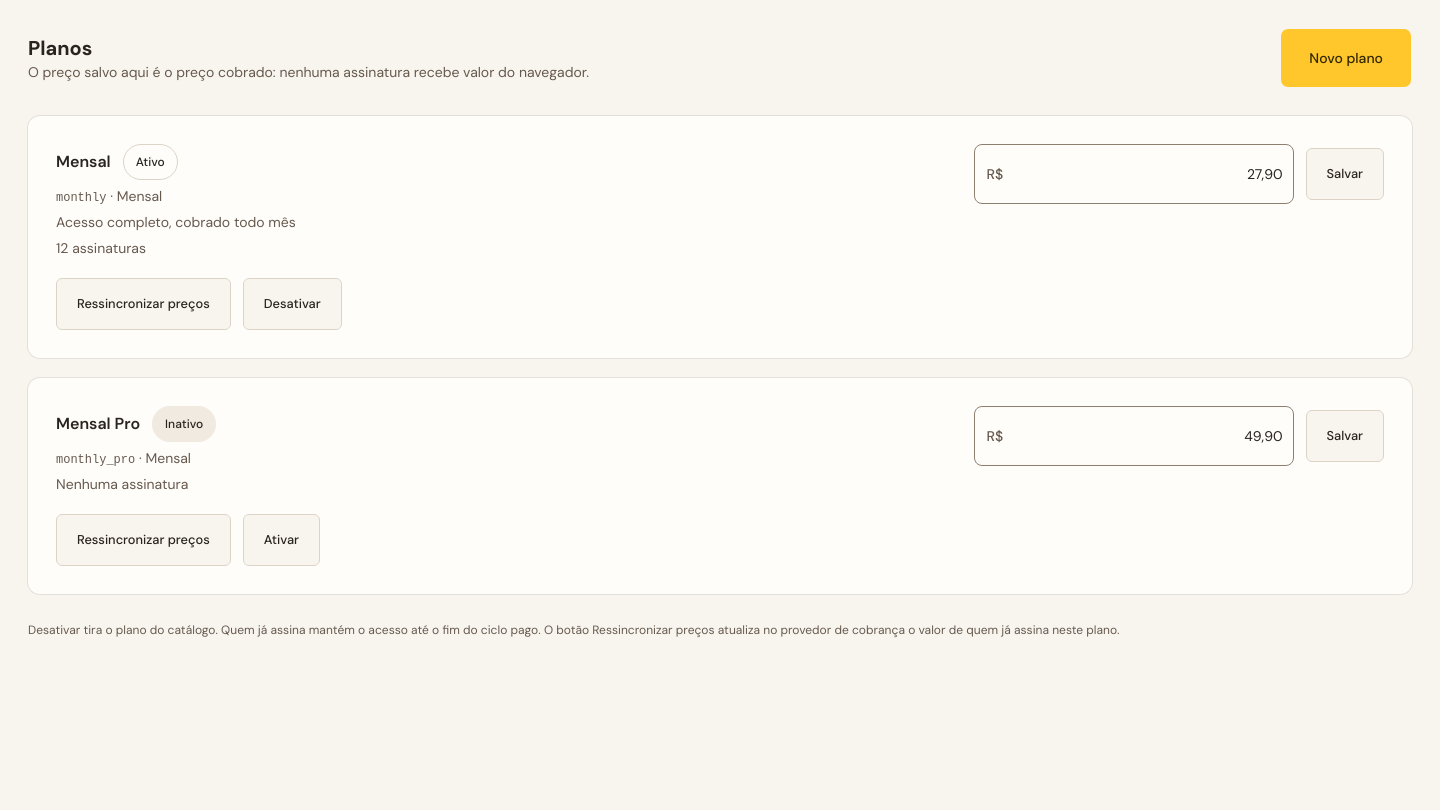
it: PlansPage › ressincroniza os preços de um plano e mostra os contadores do provedor
The width and height of the screenshot is (1440, 810).
What coordinates should you click on to do the following:
click the button with test id "plan-sync-plan-1"
I would click on:
 (143, 304)
Its box is left=56, top=278, right=231, bottom=330.
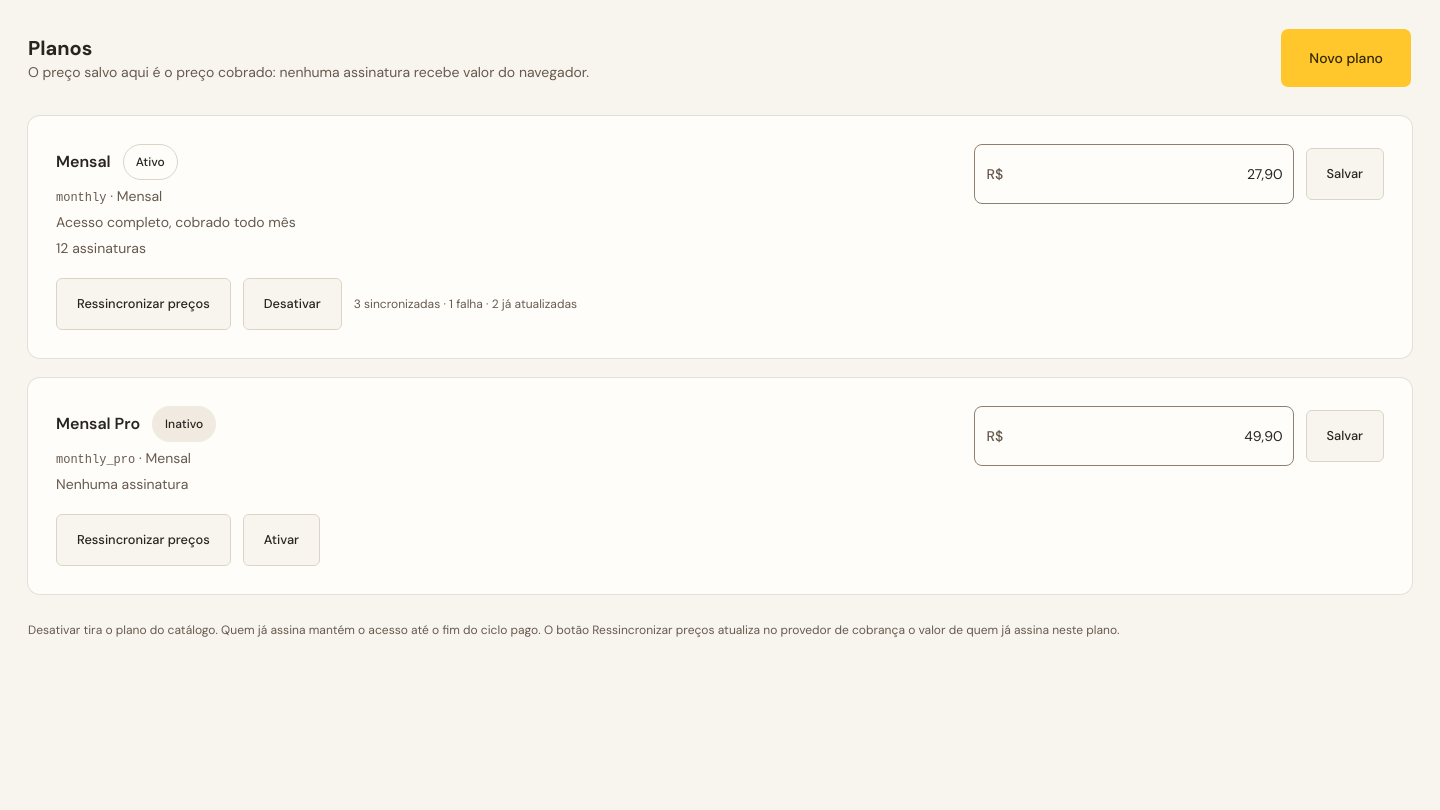
Check: the text with test id "plan-sync-status-plan-1" reads "3 sincronizadas · 1 falha · 2 já atualizadas", box left=354, top=296, right=577, bottom=312
